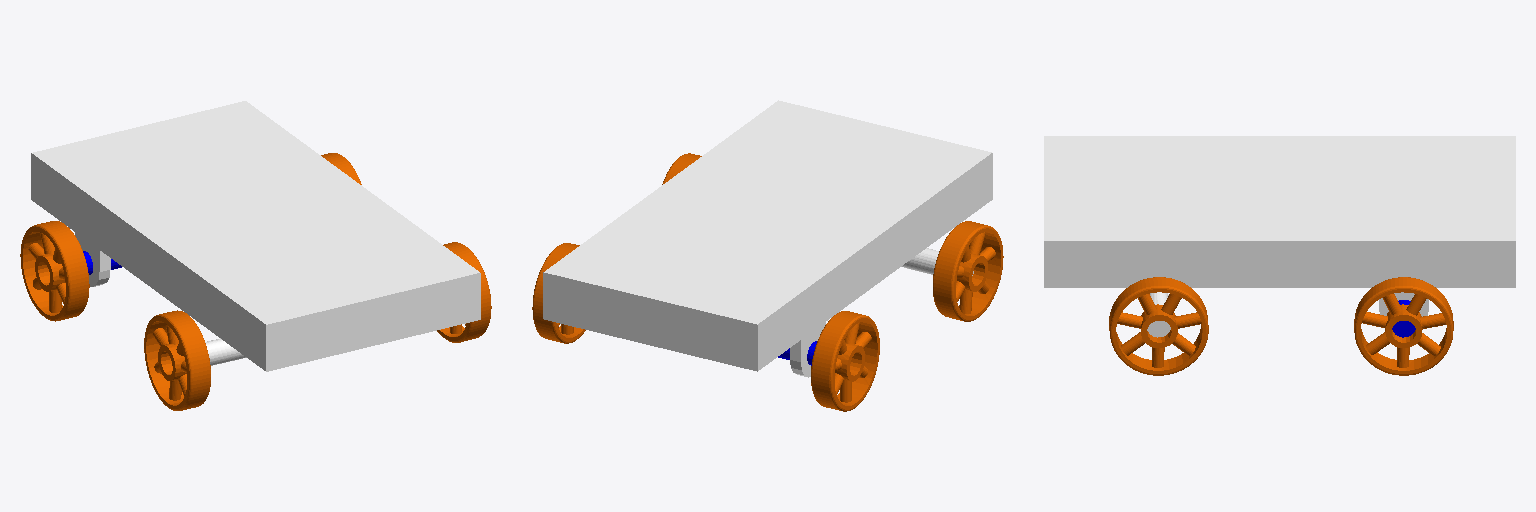
robot.urdf — mobile_robot:
<?xml version="1.0" encoding="utf-8"?>
<!-- This URDF was automatically created by SolidWorks to URDF Exporter! Originally created by [author] ([email redacted]) 
     Commit Version: 1.6.0-4-g7f85cfe  Build Version: 1.6.7995.38578
     For more information, please see http://wiki.ros.org/sw_urdf_exporter -->
<robot
  name="mobile_robot">
  <link
    name="base_link">
    <inertial>
      <origin
        xyz="-2.25946001565708E-05 -0.062403452272786 0.384573757231794"
        rpy="0 0 0" />
      <mass
        value="68.3202619212701" />
      <inertia
        ixx="5.37063950715391"
        ixy="0.000387792418879414"
        ixz="-0.000150604314056554"
        iyy="1.55373832744678"
        iyz="0.0137971211958053"
        izz="6.78523043610395" />
    </inertial>
    <visual>
      <origin
        xyz="0 0 0"
        rpy="0 0 0" />
      <geometry>
        <mesh
          filename="package://mobile_robot/meshes/base_link.STL" />
      </geometry>
      <material
        name="">
        <color
          rgba="1 1 1 1" />
      </material>
    </visual>
    <collision>
      <origin
        xyz="0 0 0"
        rpy="0 0 0" />
      <geometry>
        <mesh
          filename="package://mobile_robot/meshes/base_link.STL" />
      </geometry>
    </collision>
  </link>
  <link
    name="rear_left_wheel_shaft">
    <inertial>
      <origin
        xyz="1.94289029309402E-16 0 -0.1143"
        rpy="0 0 0" />
      <mass
        value="0.468481466874382" />
      <inertia
        ixx="0.00130973051373093"
        ixy="2.9315633839274E-20"
        ixz="-3.91566390856718E-20"
        iyy="0.00130973051373093"
        iyz="-1.95783195428359E-20"
        izz="0.000151122751584338" />
    </inertial>
    <visual>
      <origin
        xyz="0 0 0"
        rpy="0 0 0" />
      <geometry>
        <mesh
          filename="package://mobile_robot/meshes/rear_left_wheel_shaft.STL" />
      </geometry>
      <material
        name="">
        <color
          rgba="0 0 1 1" />
      </material>
    </visual>
    <collision>
      <origin
        xyz="0 0 0"
        rpy="0 0 0" />
      <geometry>
        <mesh
          filename="package://mobile_robot/meshes/rear_left_wheel_shaft.STL" />
      </geometry>
    </collision>
  </link>
  <joint
    name="rear_left_wheel_shaft_joint"
    type="continuous">
    <origin
      xyz="0.3556 0.188811295644438 0.28093186544375"
      rpy="-1.5707963267949 0 -1.5707963267949" />
    <parent
      link="base_link" />
    <child
      link="rear_left_wheel_shaft" />
    <axis
      xyz="0 0 -1" />
  </joint>
  <link
    name="rear_left_wheel">
    <inertial>
      <origin
        xyz="2.50818507907535E-08 -1.74865122937184E-08 -0.0254189996399616"
        rpy="0 0 0" />
      <mass
        value="0.898923461702657" />
      <inertia
        ixx="0.00298323347457261"
        ixy="8.0030845632189E-10"
        ixz="9.1214044348779E-10"
        iyy="0.00298323028364196"
        iyz="1.94630419891131E-09"
        izz="0.00566998391942397" />
    </inertial>
    <visual>
      <origin
        xyz="0 0 0"
        rpy="0 0 0" />
      <geometry>
        <mesh
          filename="package://mobile_robot/meshes/rear_left_wheel.STL" />
      </geometry>
      <material
        name="">
        <color
          rgba="0.909803921568627 0.443137254901961 0.0313725490196078 1" />
      </material>
    </visual>
    <collision>
      <origin
        xyz="0 0 0"
        rpy="0 0 0" />
      <geometry>
        <mesh
          filename="package://mobile_robot/meshes/rear_left_wheel.STL" />
      </geometry>
    </collision>
  </link>
  <joint
    name="rear_left_wheel_joint"
    type="fixed">
    <origin
      xyz="0 0 0"
      rpy="0 0 0" />
    <parent
      link="rear_left_wheel_shaft" />
    <child
      link="rear_left_wheel" />
    <axis
      xyz="0 0 0" />
  </joint>
  <link
    name="rear_right_wheel_shaft">
    <inertial>
      <origin
        xyz="-1.94289029309402E-16 -5.55111512312578E-17 0.1143"
        rpy="0 0 0" />
      <mass
        value="0.468481466874382" />
      <inertia
        ixx="0.00130973051373093"
        ixy="2.6509049401244E-53"
        ixz="-1.30522130285573E-20"
        iyy="0.00130973051373093"
        iyz="-2.04427928104694E-36"
        izz="0.000151122751584338" />
    </inertial>
    <visual>
      <origin
        xyz="0 0 0"
        rpy="0 0 0" />
      <geometry>
        <mesh
          filename="package://mobile_robot/meshes/rear_right_wheel_shaft.STL" />
      </geometry>
      <material
        name="">
        <color
          rgba="0 0 1 1" />
      </material>
    </visual>
    <collision>
      <origin
        xyz="0 0 0"
        rpy="0 0 0" />
      <geometry>
        <mesh
          filename="package://mobile_robot/meshes/rear_right_wheel_shaft.STL" />
      </geometry>
    </collision>
  </link>
  <joint
    name="rear_right_wheel_shaft_joint"
    type="continuous">
    <origin
      xyz="-0.3556 0.188811295644438 0.28093186544375"
      rpy="1.5707963267949 0 1.5707963267949" />
    <parent
      link="base_link" />
    <child
      link="rear_right_wheel_shaft" />
    <axis
      xyz="0 0 -1" />
  </joint>
  <link
    name="rear_right_wheel">
    <inertial>
      <origin
        xyz="-2.50818509017758E-08 1.74865123492296E-08 0.0253810003600383"
        rpy="0 0 0" />
      <mass
        value="0.898923461702656" />
      <inertia
        ixx="0.00298323347457261"
        ixy="8.00308453160405E-10"
        ixz="-9.12140444112547E-10"
        iyy="0.00298323028364196"
        iyz="-1.94630419902515E-09"
        izz="0.00566998391942397" />
    </inertial>
    <visual>
      <origin
        xyz="0 0 0"
        rpy="0 0 0" />
      <geometry>
        <mesh
          filename="package://mobile_robot/meshes/rear_right_wheel.STL" />
      </geometry>
      <material
        name="">
        <color
          rgba="0.909803921568627 0.443137254901961 0.0313725490196078 1" />
      </material>
    </visual>
    <collision>
      <origin
        xyz="0 0 0"
        rpy="0 0 0" />
      <geometry>
        <mesh
          filename="package://mobile_robot/meshes/rear_right_wheel.STL" />
      </geometry>
    </collision>
  </link>
  <joint
    name="rear_right_wheel_joint"
    type="fixed">
    <origin
      xyz="0 0 0"
      rpy="0 0 0" />
    <parent
      link="rear_right_wheel_shaft" />
    <child
      link="rear_right_wheel" />
    <axis
      xyz="0 0 0" />
  </joint>
  <link
    name="front_right_wheel_shaft">
    <inertial>
      <origin
        xyz="-0.00360185657960171 0.0196805518035527 0.132396071457413"
        rpy="0 0 0" />
      <mass
        value="0.662757641502811" />
      <inertia
        ixx="0.00251068311249175"
        ixy="1.61508343182953E-05"
        ixz="4.56546510107146E-05"
        iyy="0.0018935373555913"
        iyz="-0.00059369273981454"
        izz="0.000833768944559177" />
    </inertial>
    <visual>
      <origin
        xyz="0 0 0"
        rpy="0 0 0" />
      <geometry>
        <mesh
          filename="package://mobile_robot/meshes/front_right_wheel_shaft.STL" />
      </geometry>
      <material
        name="">
        <color
          rgba="1 1 1 1" />
      </material>
    </visual>
    <collision>
      <origin
        xyz="0 0 0"
        rpy="0 0 0" />
      <geometry>
        <mesh
          filename="package://mobile_robot/meshes/front_right_wheel_shaft.STL" />
      </geometry>
    </collision>
  </link>
  <joint
    name="front_right_wheel_shaft_joint"
    type="revolute">
    <origin
      xyz="-0.35553 -0.31435 0.28093"
      rpy="1.5708 0 1.5708" />
    <parent
      link="base_link" />
    <child
      link="front_right_wheel_shaft" />
    <axis
      xyz="1 0 0" />
    <limit
      lower="0"
      upper="0"
      effort="0"
      velocity="0" />
  </joint>
  <link
    name="front_right_wheel">
    <inertial>
      <origin
        xyz="-0.000690264139604047 1.36018457053133E-08 0.0253716123786964"
        rpy="0 0 0" />
      <mass
        value="0.898923461702655" />
      <inertia
        ixx="0.00298522024326352"
        ixy="1.2859664732117E-09"
        ixz="-7.30398262744775E-05"
        iyy="0.00298323058601774"
        iyz="-2.02519461236709E-09"
        izz="0.00566799684835727" />
    </inertial>
    <visual>
      <origin
        xyz="0 0 0"
        rpy="0 0 0" />
      <geometry>
        <mesh
          filename="package://mobile_robot/meshes/front_right_wheel.STL" />
      </geometry>
      <material
        name="">
        <color
          rgba="0.909803921568627 0.443137254901961 0.0313725490196078 1" />
      </material>
    </visual>
    <collision>
      <origin
        xyz="0 0 0"
        rpy="0 0 0" />
      <geometry>
        <mesh
          filename="package://mobile_robot/meshes/front_right_wheel.STL" />
      </geometry>
    </collision>
  </link>
  <joint
    name="front_right_wheel_joint"
    type="continuous">
    <origin
      xyz="0 0 0"
      rpy="0 0 0" />
    <parent
      link="front_right_wheel_shaft" />
    <child
      link="front_right_wheel" />
    <axis
      xyz="-0.00273683970937426 0 -0.999996254847189" />
  </joint>
  <link
    name="front_left_wheel_shaft">
    <inertial>
      <origin
        xyz="-0.00505136395318612 0.0196805519337054 -0.132348693989804"
        rpy="0 0 0" />
      <mass
        value="0.66275764390845" />
      <inertia
        ixx="0.00250948227588092"
        ixy="2.26520389431454E-05"
        ixz="-6.40044498645542E-05"
        iyy="0.00189353737149804"
        iyz="0.000593480256859154"
        izz="0.000834969763617833" />
    </inertial>
    <visual>
      <origin
        xyz="0 0 0"
        rpy="0 0 0" />
      <geometry>
        <mesh
          filename="package://mobile_robot/meshes/front_left_wheel_shaft.STL" />
      </geometry>
      <material
        name="">
        <color
          rgba="1 1 1 1" />
      </material>
    </visual>
    <collision>
      <origin
        xyz="0 0 0"
        rpy="0 0 0" />
      <geometry>
        <mesh
          filename="package://mobile_robot/meshes/front_left_wheel_shaft.STL" />
      </geometry>
    </collision>
  </link>
  <joint
    name="front_left_wheel_shaft_joint"
    type="revolute">
    <origin
      xyz="0.35547 -0.31241 0.28093"
      rpy="1.5708 0 1.5708" />
    <parent
      link="base_link" />
    <child
      link="front_left_wheel_shaft" />
    <axis
      xyz="-0.0027368 0 -1" />
    <limit
      lower="0"
      upper="0"
      effort="0"
      velocity="0" />
  </joint>
  <link
    name="front_left_wheel">
    <inertial>
      <origin
        xyz="-0.000969490827605057 1.74865123492296E-08 -0.0254005045271187"
        rpy="0 0 0" />
      <mass
        value="0.898923461702659" />
      <inertia
        ixx="0.00298714159238358"
        ixy="7.2549526952249E-10"
        ixz="0.000102395624335985"
        iyy="0.00298323028364196"
        iyz="-1.97541141777494E-09"
        izz="0.00566607580161301" />
    </inertial>
    <visual>
      <origin
        xyz="0 0 0"
        rpy="0 0 0" />
      <geometry>
        <mesh
          filename="package://mobile_robot/meshes/front_left_wheel.STL" />
      </geometry>
      <material
        name="">
        <color
          rgba="0.909803921568627 0.443137254901961 0.0313725490196078 1" />
      </material>
    </visual>
    <collision>
      <origin
        xyz="0 0 0"
        rpy="0 0 0" />
      <geometry>
        <mesh
          filename="package://mobile_robot/meshes/front_left_wheel.STL" />
      </geometry>
    </collision>
  </link>
  <joint
    name="front_left_wheel_joint"
    type="continuous">
    <origin
      xyz="0 0 0"
      rpy="0 0 0" />
    <parent
      link="front_left_wheel_shaft" />
    <child
      link="front_left_wheel" />
    <axis
      xyz="-0.00273683970937426 0 -0.999996254847189" />
  </joint>
</robot>

--- Facts derived from the render (not from the file) ---
The picture shows the robot from 3 angles, left to right: view 1: azimuth 30°, elevation 25°; view 2: azimuth 150°, elevation 25°; view 3: azimuth 270°, elevation 25°; orthographic projection.
Robot: mobile_robot — 9 links, 8 joints (2 revolute, 4 continuous, 2 fixed); root link base_link; default pose: all joints at 0.
Links seen in each view (by area): view 1: base_link, rear_right_wheel, front_right_wheel, front_left_wheel, front_right_wheel_shaft; view 2: base_link, front_right_wheel, rear_right_wheel, rear_left_wheel, front_right_wheel_shaft; view 3: base_link, rear_left_wheel, front_left_wheel.
Link boxes in pixels (box(x1,y1,x2,y2)): base_link: box(31, 101, 480, 371); rear_right_wheel: box(20, 221, 89, 321); front_right_wheel: box(144, 310, 210, 410); front_left_wheel: box(437, 242, 491, 342); front_right_wheel_shaft: box(205, 338, 246, 365); base_link: box(543, 100, 992, 377); front_right_wheel: box(933, 221, 1003, 321); rear_right_wheel: box(811, 311, 879, 411); rear_left_wheel: box(532, 243, 585, 343); front_right_wheel_shaft: box(901, 248, 973, 275); base_link: box(1044, 136, 1515, 316); rear_left_wheel: box(1354, 277, 1453, 375); front_left_wheel: box(1109, 277, 1208, 375).
Size in the robot's own frame: 0.7173 by 0.9652 by 0.2592 metres.
9 mesh visuals loaded from 9 distinct referenced files (9 binary STL).